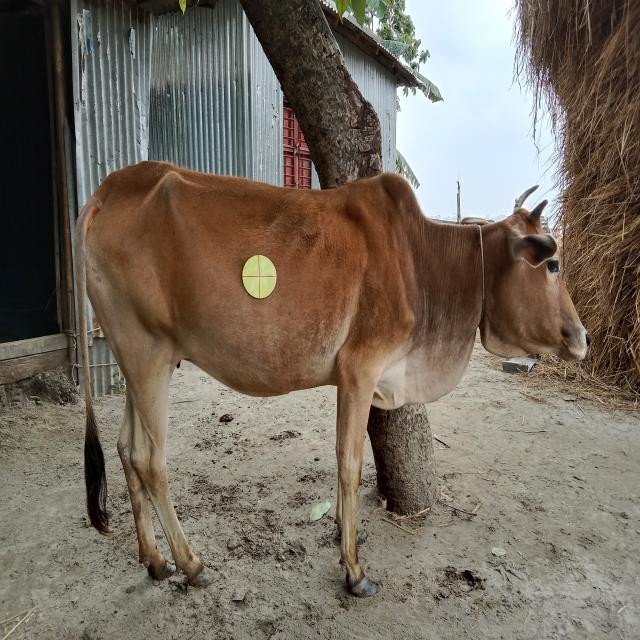badan_sapi: (88, 185, 406, 397)
sapi: (65, 152, 602, 617)
